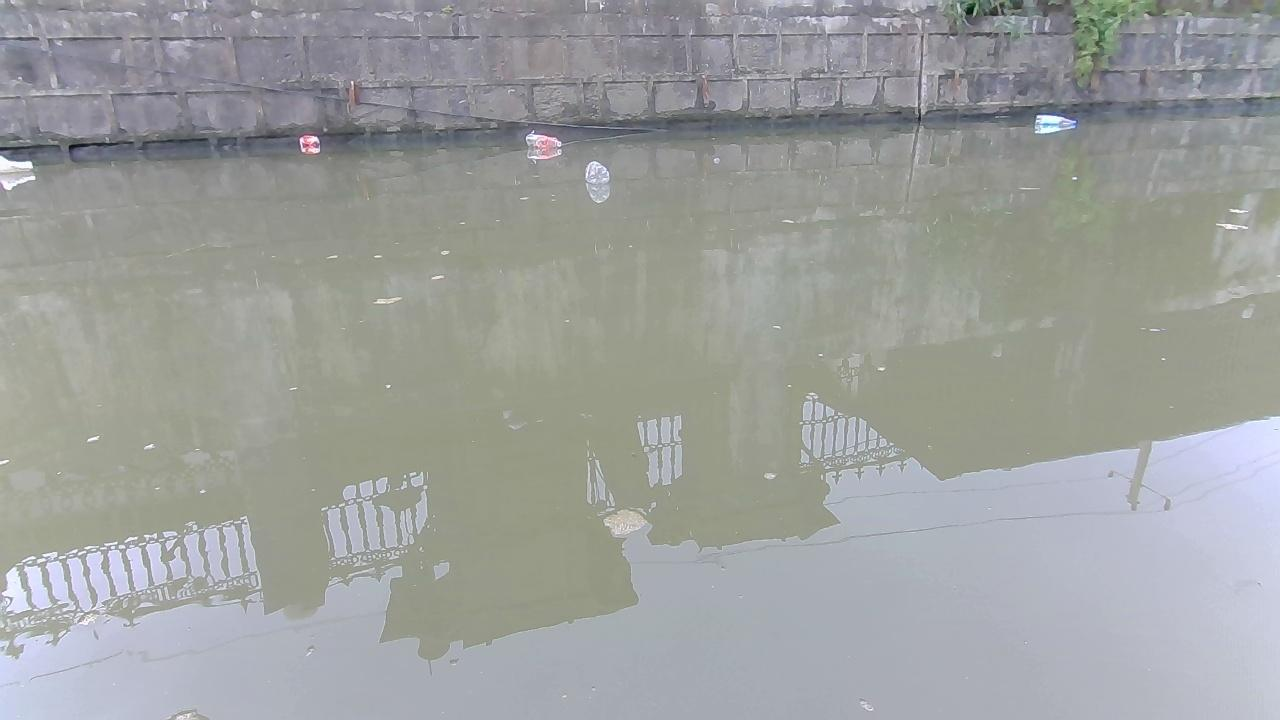bottle: (581, 157, 610, 187), (1031, 112, 1085, 128), (524, 132, 565, 152), (0, 157, 34, 172), (297, 131, 321, 151)
